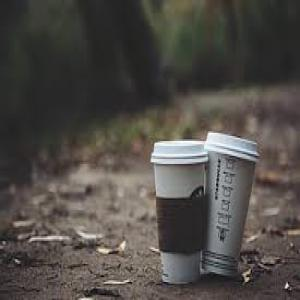Cup: (152, 141, 211, 287), (205, 132, 261, 280)
